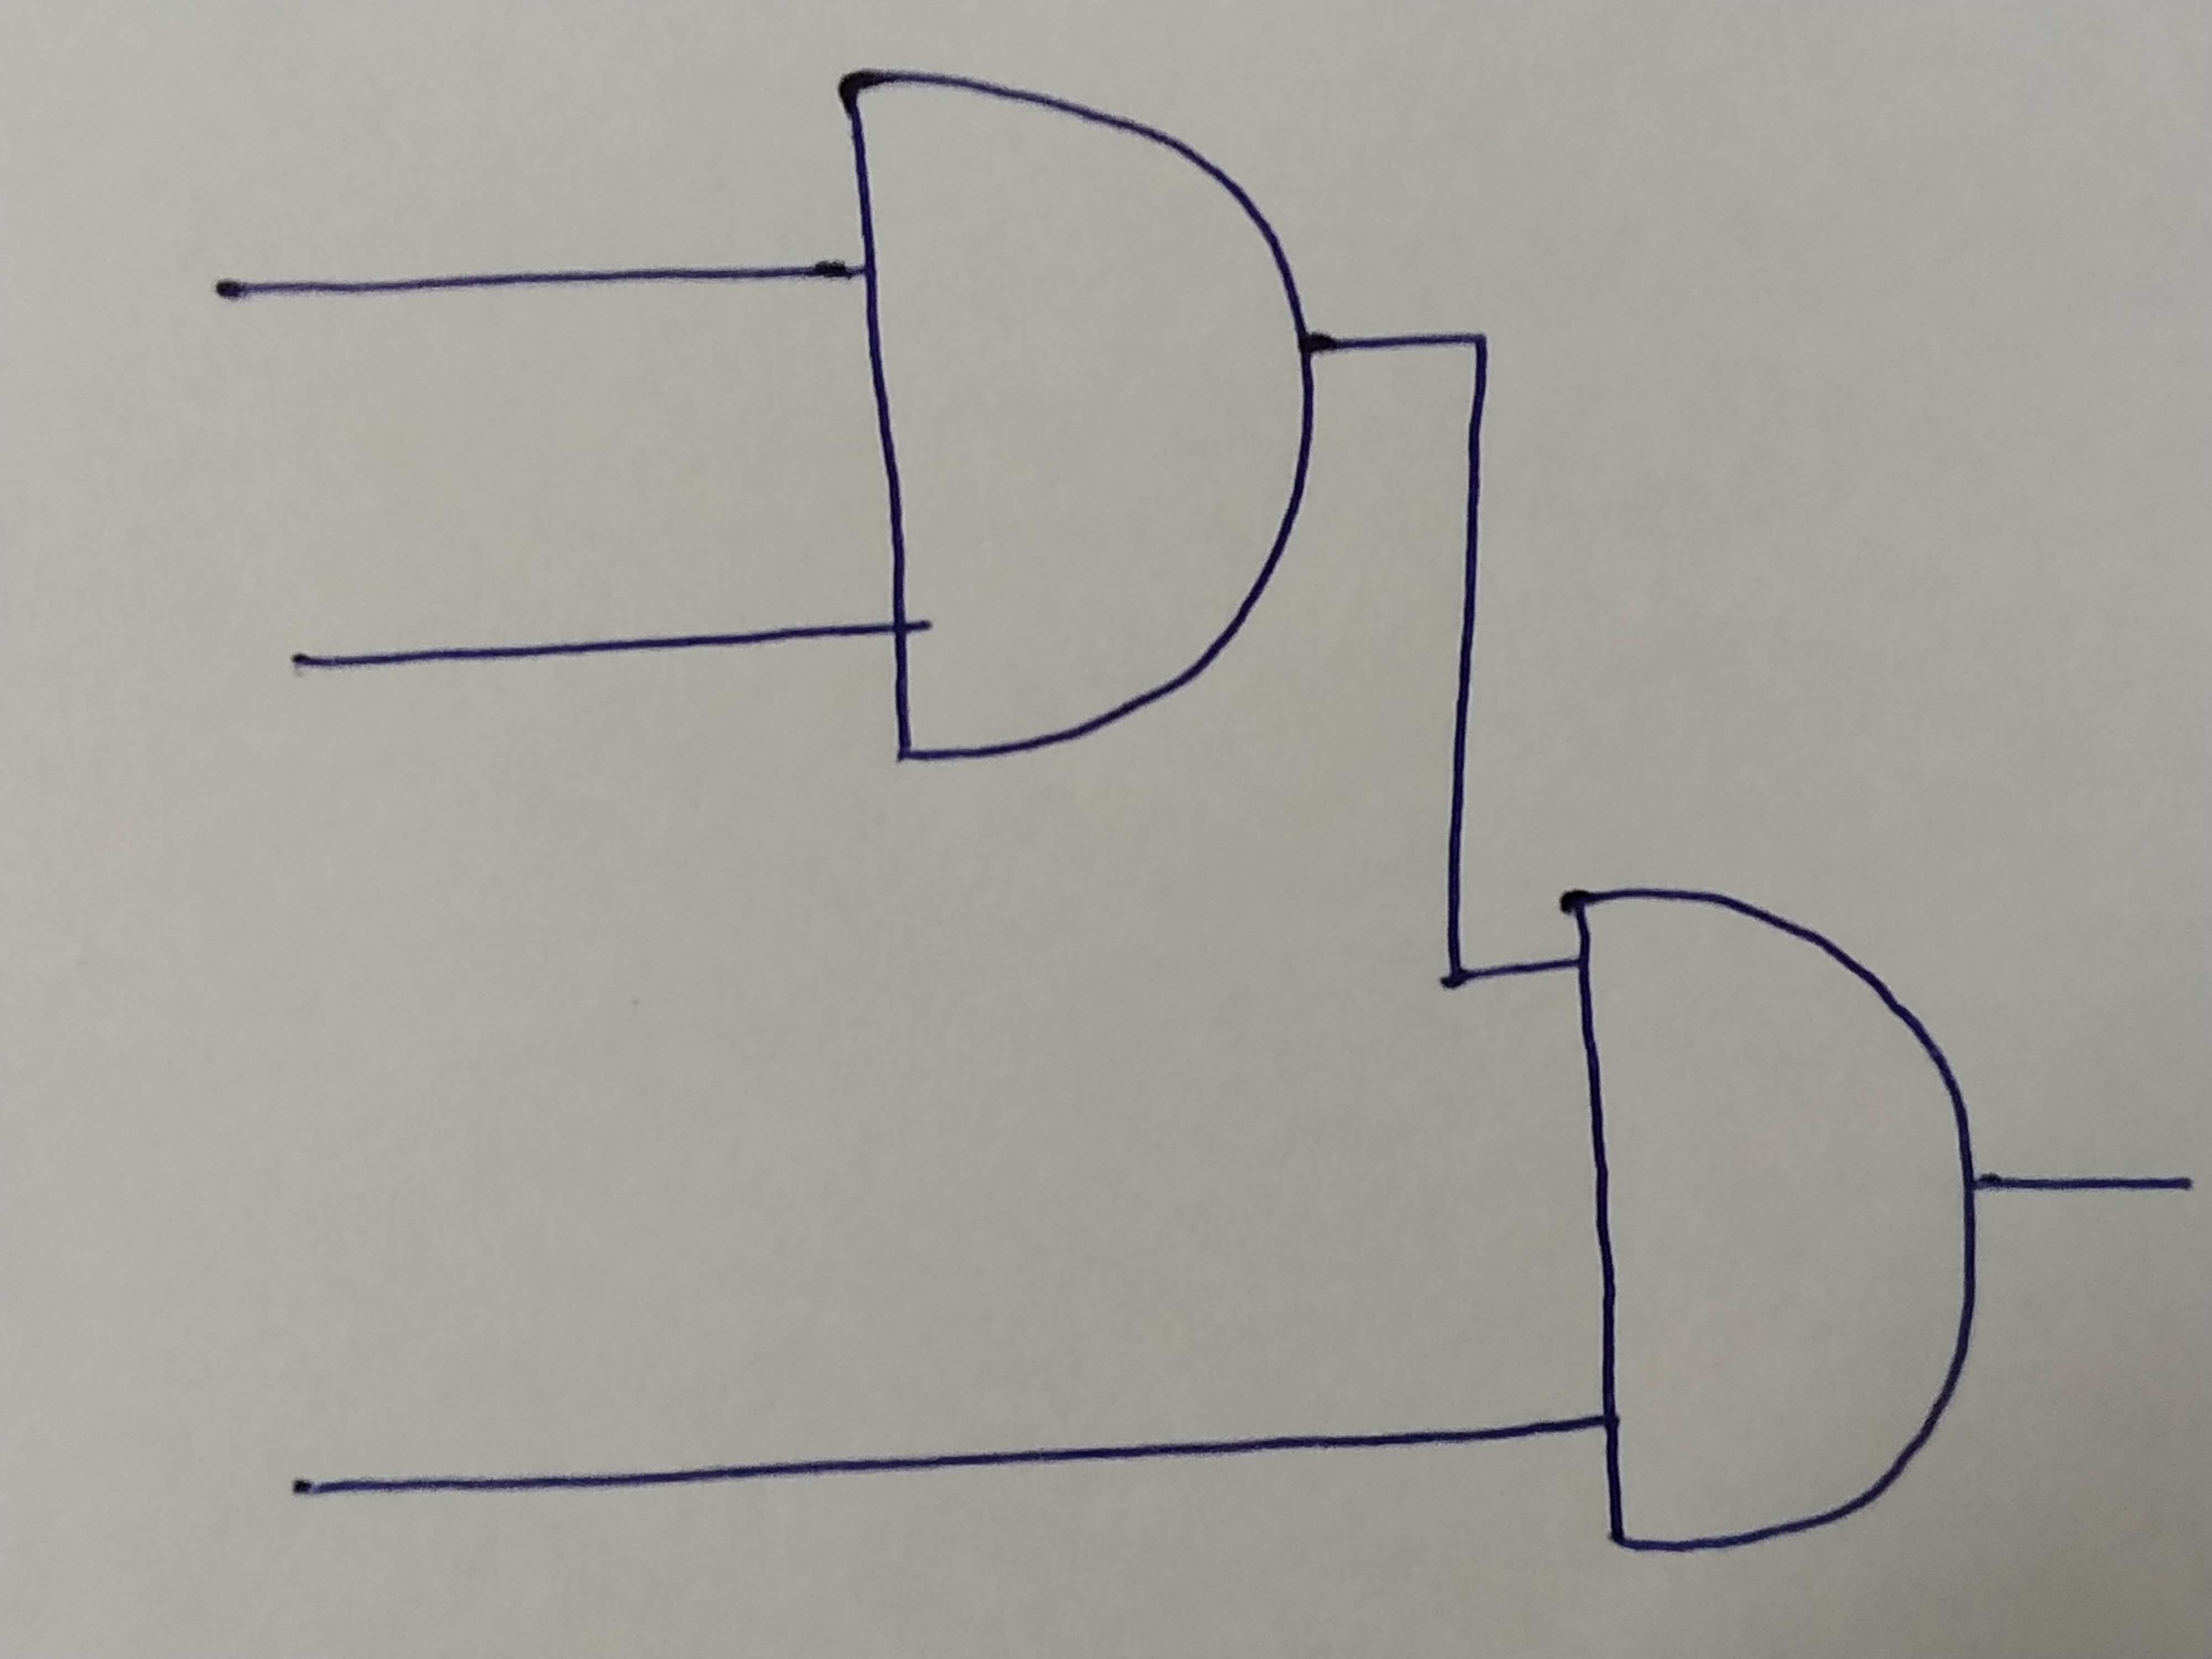and: (831, 68, 1317, 767), (1571, 878, 1994, 1561)
